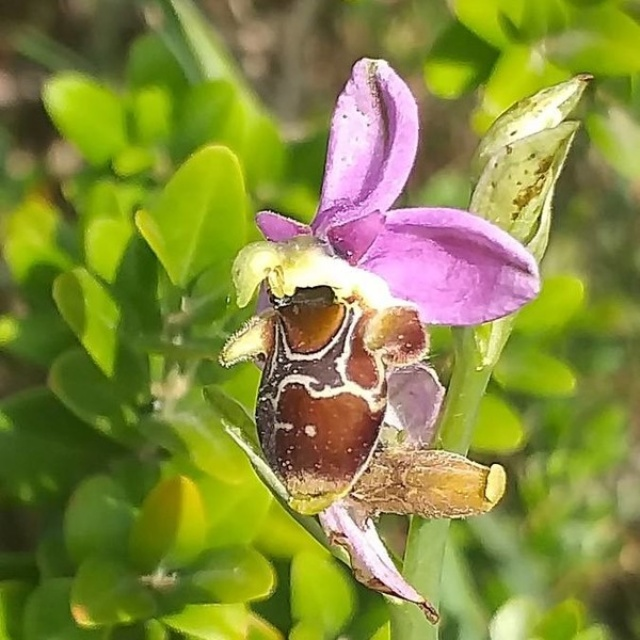obstacle: (221, 73, 525, 603), (49, 113, 262, 591)
